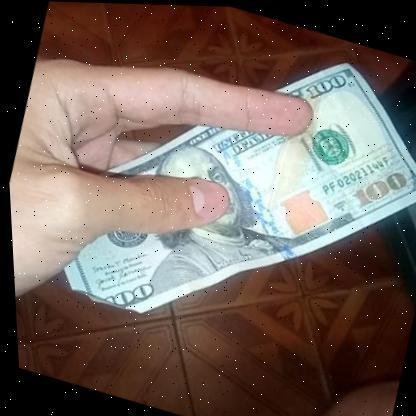one_hundred-front: (37, 1, 416, 386)
